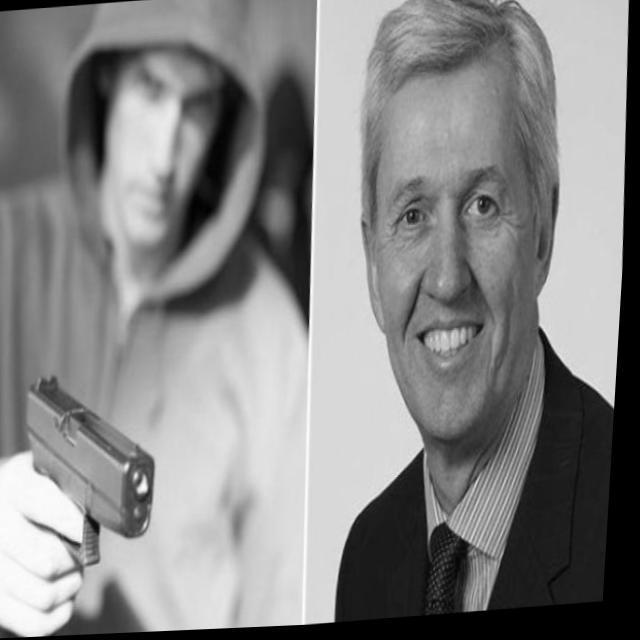weapon: (22, 348, 170, 574)
